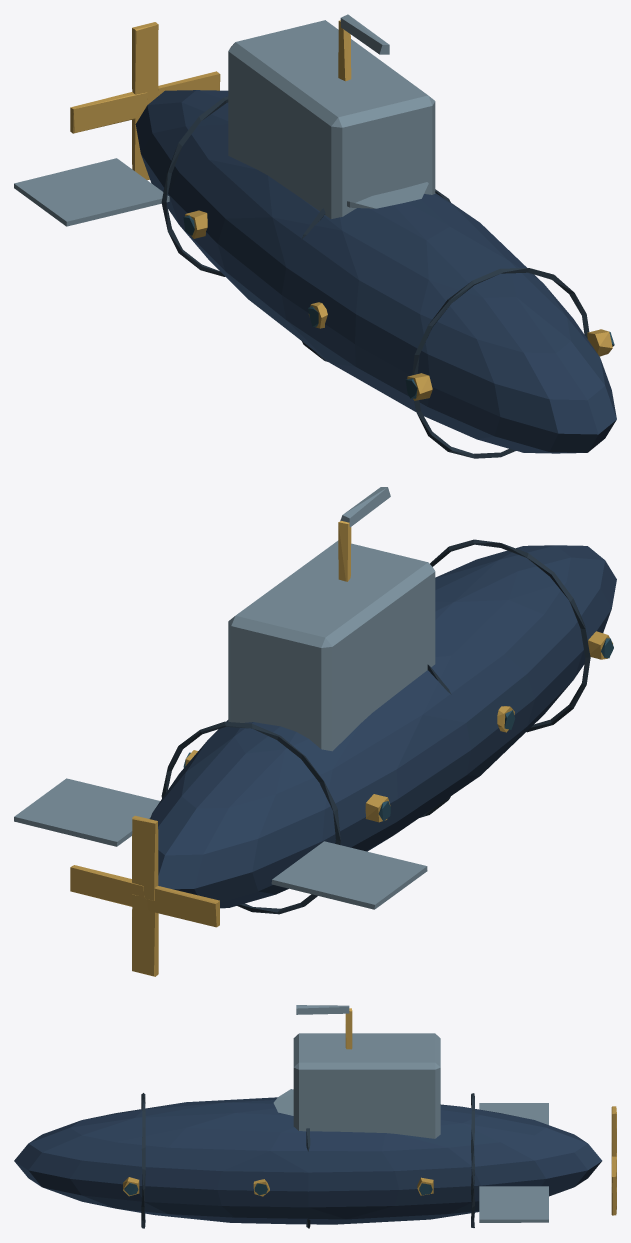
The model's file is submarines-torpedo-sub.lod1.glb.
3 renders of one model, top to bottom at view 1: azimuth 30°, elevation 25°; view 2: azimuth 150°, elevation 25°; view 3: azimuth 270°, elevation 25°, orthographic. The views are drawn at different scales.
Visible parts, largest first — view 1: submarines-torpedo-sub__body, submarines-torpedo-sub__propeller, submarines-torpedo-sub__hatch; view 2: submarines-torpedo-sub__body, submarines-torpedo-sub__propeller; view 3: submarines-torpedo-sub__body, submarines-torpedo-sub__propeller, submarines-torpedo-sub__hatch.
Part boxes in pixels (box(x1,y1,x2,y2)): submarines-torpedo-sub__body: box(14, 14, 616, 458); submarines-torpedo-sub__propeller: box(70, 22, 220, 180); submarines-torpedo-sub__hatch: box(347, 182, 428, 208); submarines-torpedo-sub__body: box(14, 487, 616, 914); submarines-torpedo-sub__propeller: box(70, 815, 219, 976); submarines-torpedo-sub__body: box(14, 1005, 602, 1228); submarines-torpedo-sub__propeller: box(611, 1106, 616, 1215); submarines-torpedo-sub__hatch: box(273, 1089, 293, 1115).
Size of the model in its own units: 6.1 by 5.29 by 13.32.
